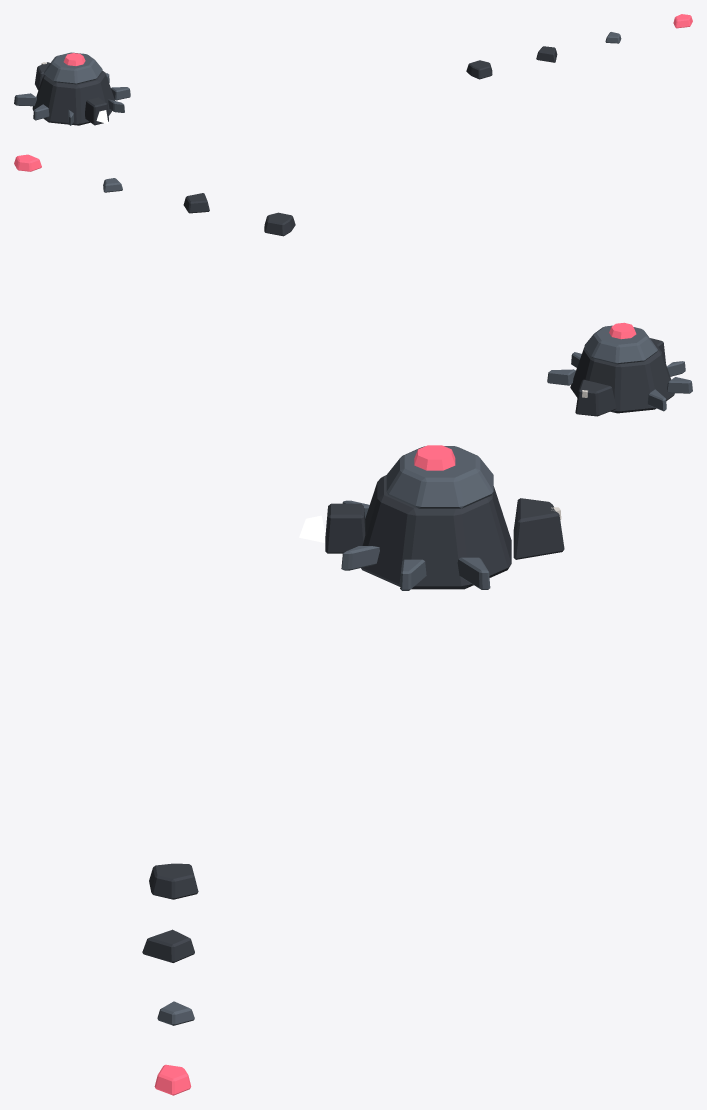
File: Enemy_Swarm_v4.fbx
3 views of the same model, one above another, from view 1: azimuth 30°, elevation 25°; view 2: azimuth 150°, elevation 25°; view 3: azimuth 270°, elevation 25° (orthographic). The views are drawn at different scales.
Visible parts, largest first — view 1: Body, Shell_Top, Thruster_Main, Enemy_Swarm_v4_Chunk_01, Enemy_Swarm_v4_Chunk_02, Leg_02, Core, Enemy_Swarm_v4_Chunk_04, Leg_03, Leg_04, Head; view 2: Body, Shell_Top, Head, Enemy_Swarm_v4_Chunk_01, Enemy_Swarm_v4_Chunk_02; view 3: Body, Shell_Top, Head, Thruster_Main, Enemy_Swarm_v4_Chunk_01, Enemy_Swarm_v4_Chunk_02.
Part boxes in pixels (x1,y1,x2,y2): Body: (32,70,115,125); Shell_Top: (44,52,102,84); Thruster_Main: (85,97,108,125); Enemy_Swarm_v4_Chunk_01: (466,60,492,79); Enemy_Swarm_v4_Chunk_02: (536,46,557,62); Leg_02: (14,93,36,106); Core: (63,53,85,65); Enemy_Swarm_v4_Chunk_04: (673,14,692,28); Leg_03: (111,87,130,100); Leg_04: (33,104,49,120); Head: (35,62,50,90); Body: (570,340,674,413); Shell_Top: (584,325,657,364); Head: (575,379,616,416); Enemy_Swarm_v4_Chunk_01: (264,212,295,236); Enemy_Swarm_v4_Chunk_02: (183,193,209,213); Body: (361,475,511,589); Shell_Top: (386,446,493,508); Head: (513,498,564,559); Thruster_Main: (325,503,365,553); Enemy_Swarm_v4_Chunk_01: (149,863,198,899); Enemy_Swarm_v4_Chunk_02: (142,929,194,962).
Size of the model in its own units: 5.31 by 0.44 by 1.61.
